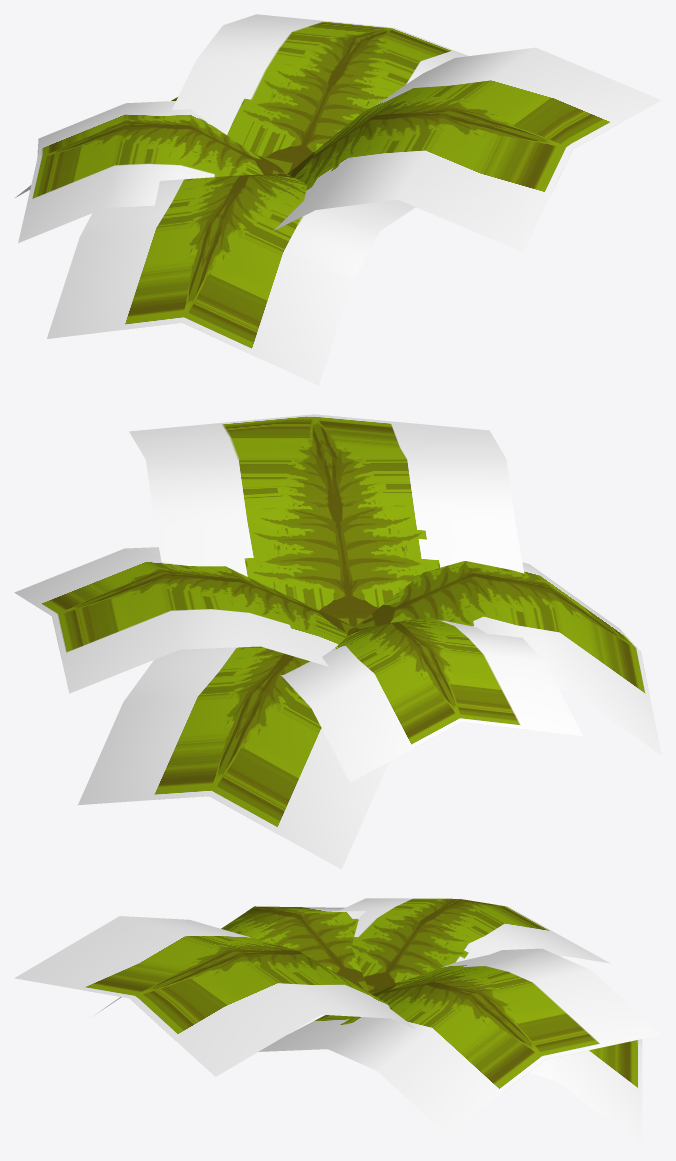
The model's file is Fern_Bush_Light_2.fbx.
3 renders of one model, top to bottom at view 1: azimuth 30°, elevation 25°; view 2: azimuth 150°, elevation 25°; view 3: azimuth 270°, elevation 25°, orthographic. The views are drawn at different scales.
Visible parts, largest first — view 1: Fern_Bush_2; view 2: Fern_Bush_2; view 3: Fern_Bush_2.
Part boxes in pixels (x1=…): Fern_Bush_2: x1=15, y1=14, x2=661, y2=385; Fern_Bush_2: x1=14, y1=414, x2=661, y2=869; Fern_Bush_2: x1=14, y1=898, x2=661, y2=1146.
Size of the model in its own units: 2.22 by 0.6997 by 2.29.
